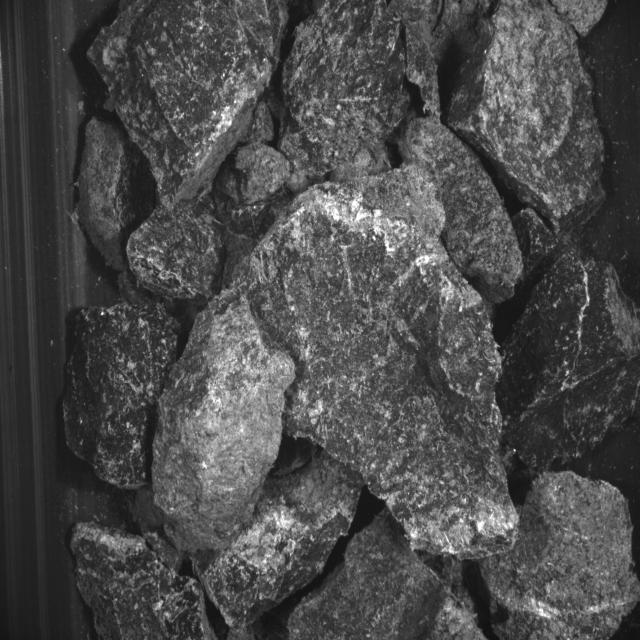Stones: (244, 169, 519, 558), (89, 1, 289, 207), (154, 291, 296, 552), (449, 3, 606, 232), (497, 256, 640, 472), (195, 452, 364, 629), (481, 472, 640, 640), (280, 1, 410, 191), (400, 118, 524, 305), (65, 303, 179, 490), (289, 510, 446, 640), (72, 523, 216, 640), (79, 118, 156, 272), (127, 200, 224, 305), (406, 20, 441, 118), (236, 143, 290, 205)
